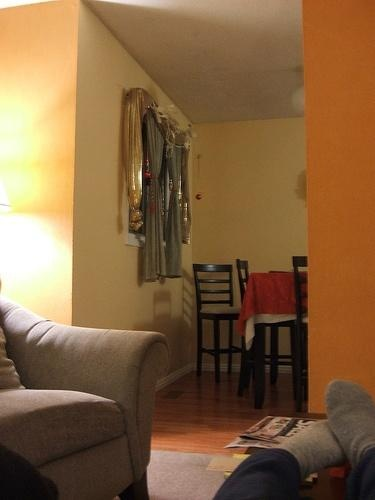chair: (233, 258, 308, 400), (192, 261, 247, 390), (292, 255, 312, 415)
diningtable: (238, 266, 312, 413)
sofa: (4, 284, 173, 497)
